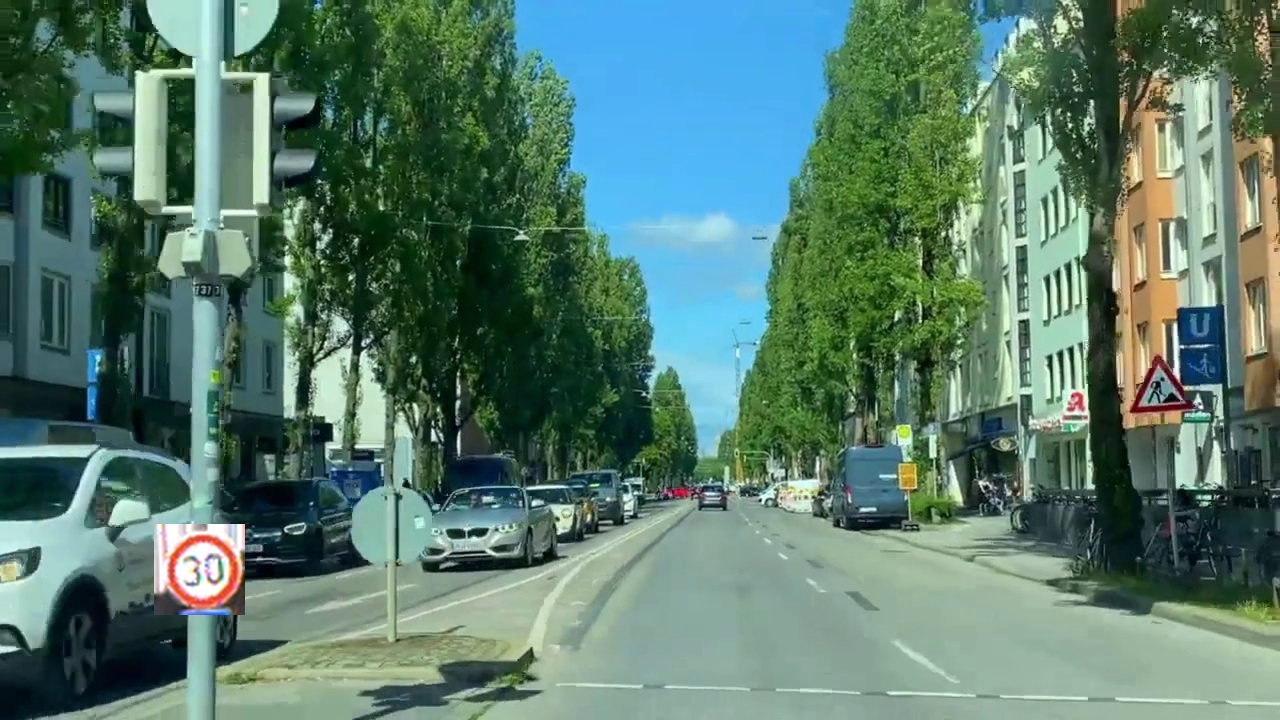Speed 30: (154, 524, 245, 615)
